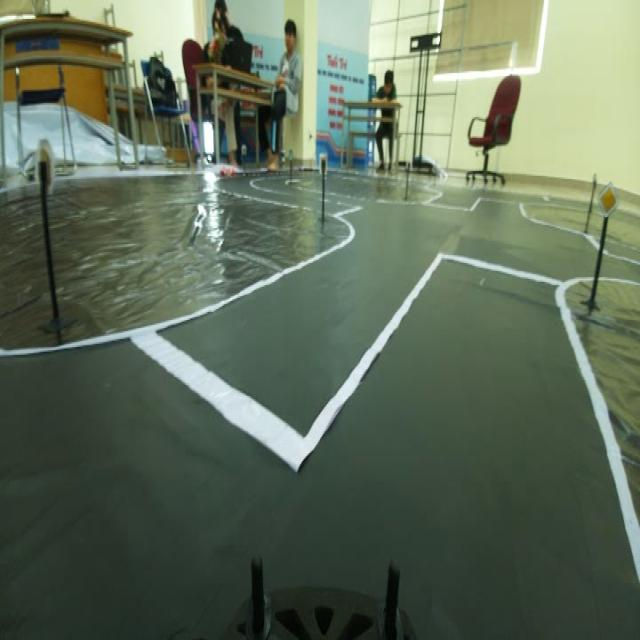priority: (596, 178, 619, 220)
